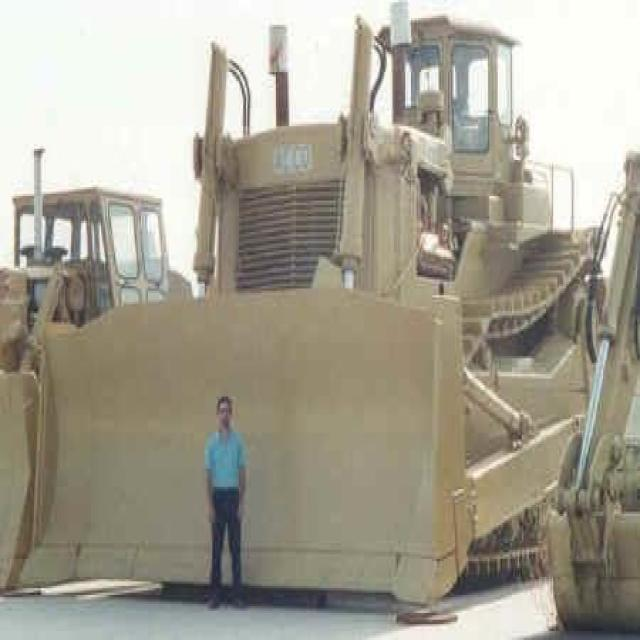buldozerpayloadergrader: (14, 14, 612, 608)
